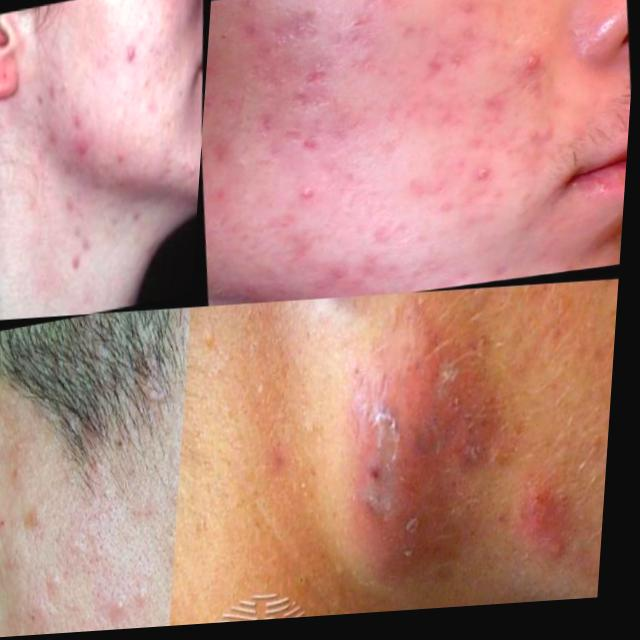8: (535, 489, 576, 567), (509, 49, 558, 86), (71, 124, 101, 183), (52, 65, 86, 105), (278, 88, 317, 117), (238, 10, 264, 49), (120, 35, 143, 76)
9: (287, 181, 327, 214), (471, 170, 500, 192)
blackheads: (284, 306, 506, 618), (413, 53, 471, 90), (293, 58, 349, 94), (293, 130, 332, 158), (477, 96, 517, 122)
